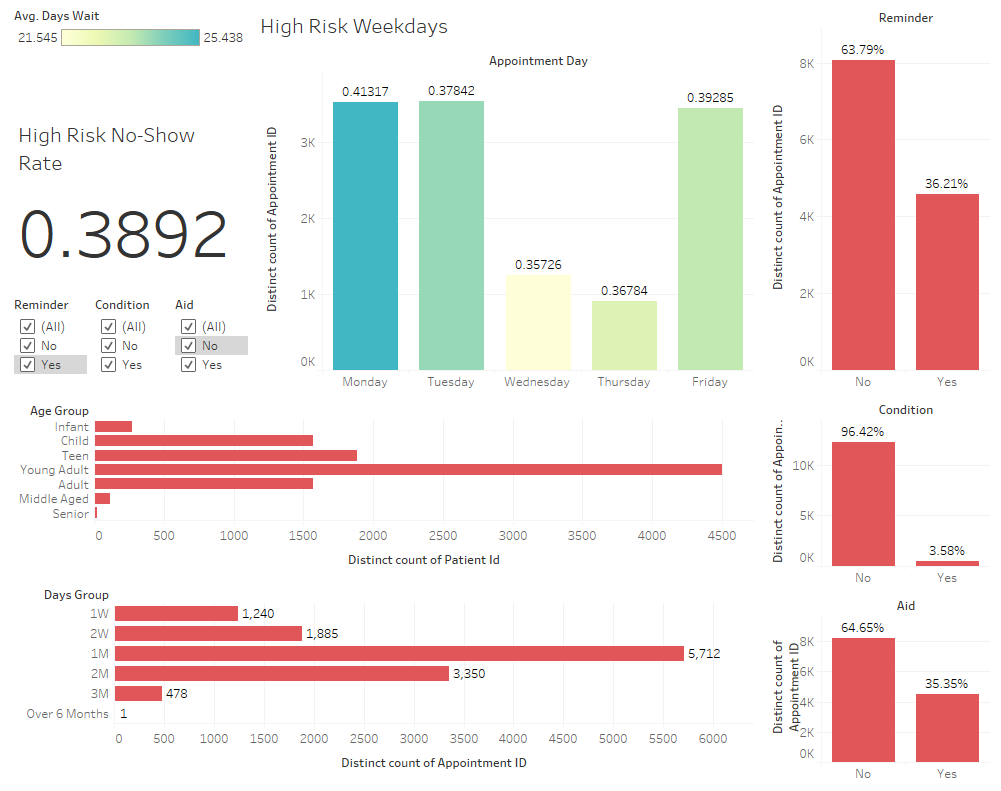

The dashboard page shown, as its layout file describes it:
{"tool":"tableau","page":{"name":"Operational Strategy","canvas":[1000,800],"ordinal":2},"visuals":[{"type":"legend","title":"High Risk Weekdays","param":"[federated.193puk90tf1toy1ceu3rd0siq47u].[avg:Days_Wait:qk]","box":[8,8,241.9,109]},{"type":"worksheet","title":"High Risk Weekdays","mark":"Bar","rows":["AppointmentID"],"cols":["AppointmentDay"],"box":[249.9,8,506,392]},{"type":"worksheet","title":"High Risk by Reminder","mark":"Automatic","rows":["AppointmentID"],"cols":["Reminder"],"box":[755.9,8,236.1,392]},{"type":"worksheet","title":"High Risk No-Show Rate","mark":"Automatic","box":[8,117,241.9,180]},{"type":"filter","title":"High Risk by Reminder","param":"[federated.193puk90tf1toy1ceu3rd0siq47u].[none:Reminder:nk]","box":[8,297,80.6,103]},{"type":"filter","title":"High Risk by Condition","param":"[federated.193puk90tf1toy1ceu3rd0siq47u].[none:Condition:nk]","box":[88.6,297,80.7,103]},{"type":"filter","title":"High Risk Weekdays","param":"[federated.193puk90tf1toy1ceu3rd0siq47u].[none:Aid:nk]","box":[169.3,297,80.6,103]},{"type":"worksheet","title":"High Risk Age Groups","mark":"Automatic","rows":["Age_Group"],"cols":["PatientId"],"box":[8,400,748,184]},{"type":"worksheet","title":"High Risk by Condition","mark":"Automatic","rows":["AppointmentID"],"cols":["Condition"],"box":[756,400,236,196]},{"type":"worksheet","title":"High Risk Waits","mark":"Automatic","rows":["Days_Group"],"cols":["AppointmentID"],"box":[8,584,748,208]},{"type":"worksheet","title":"High Risk by Scholarship","mark":"Automatic","rows":["AppointmentID"],"cols":["Aid"],"box":[756,596,236,196]}]}

Visuals, with their boxes in screenshot pixels (x1, y1, x2, y2), scaled from the page's 1000x800 canvas onto the 1001x791 screenshot:
"High Risk Weekdays" legend: (left=8, top=8, right=250, bottom=116)
"High Risk Weekdays" worksheet (Bar marks): (left=250, top=8, right=757, bottom=396)
"High Risk by Reminder" worksheet: (left=757, top=8, right=993, bottom=396)
"High Risk No-Show Rate" worksheet: (left=8, top=116, right=250, bottom=294)
"High Risk by Reminder" filter: (left=8, top=294, right=89, bottom=396)
"High Risk by Condition" filter: (left=89, top=294, right=169, bottom=396)
"High Risk Weekdays" filter: (left=169, top=294, right=250, bottom=396)
"High Risk Age Groups" worksheet: (left=8, top=396, right=757, bottom=577)
"High Risk by Condition" worksheet: (left=757, top=396, right=993, bottom=589)
"High Risk Waits" worksheet: (left=8, top=577, right=757, bottom=783)
"High Risk by Scholarship" worksheet: (left=757, top=589, right=993, bottom=783)
